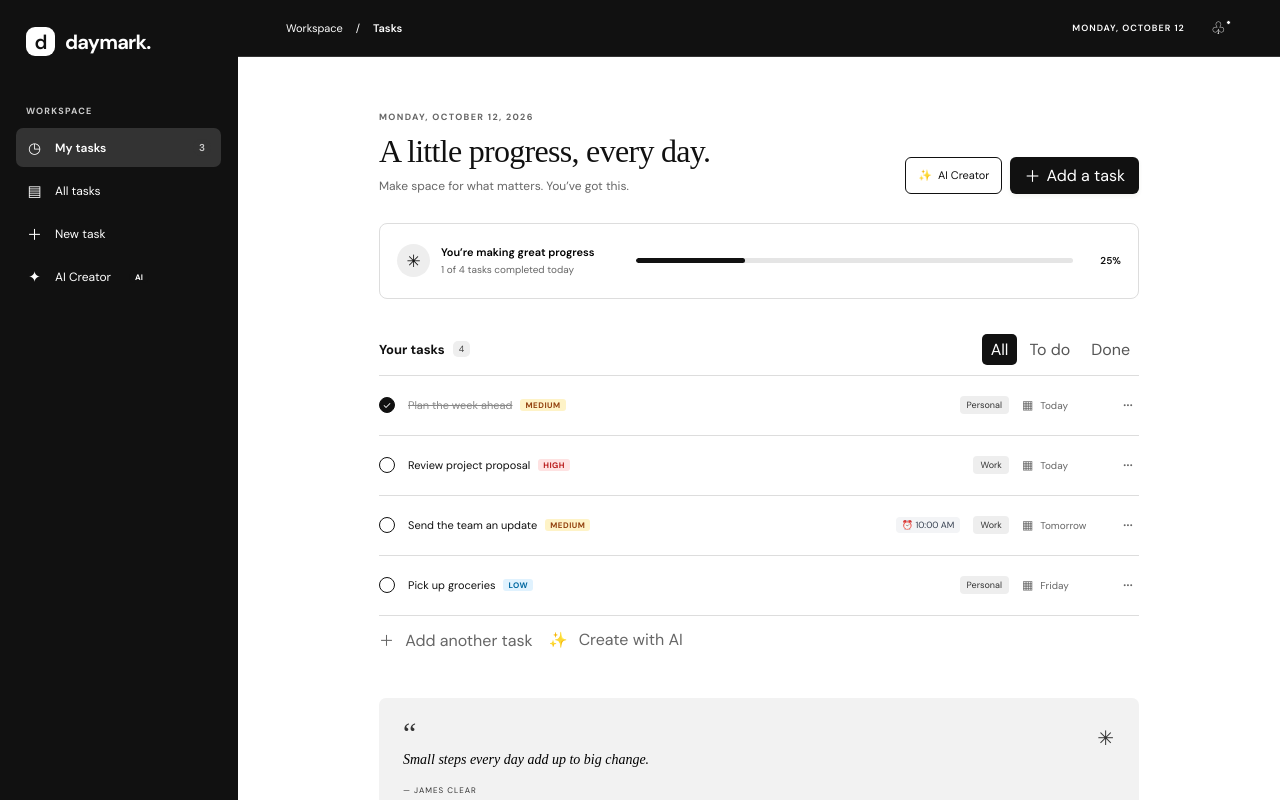
Test case: task app › updates completion status and saves it to local storage
Click the button named "Complete Review project proposal" at (387, 465), box [379,457,395,473]
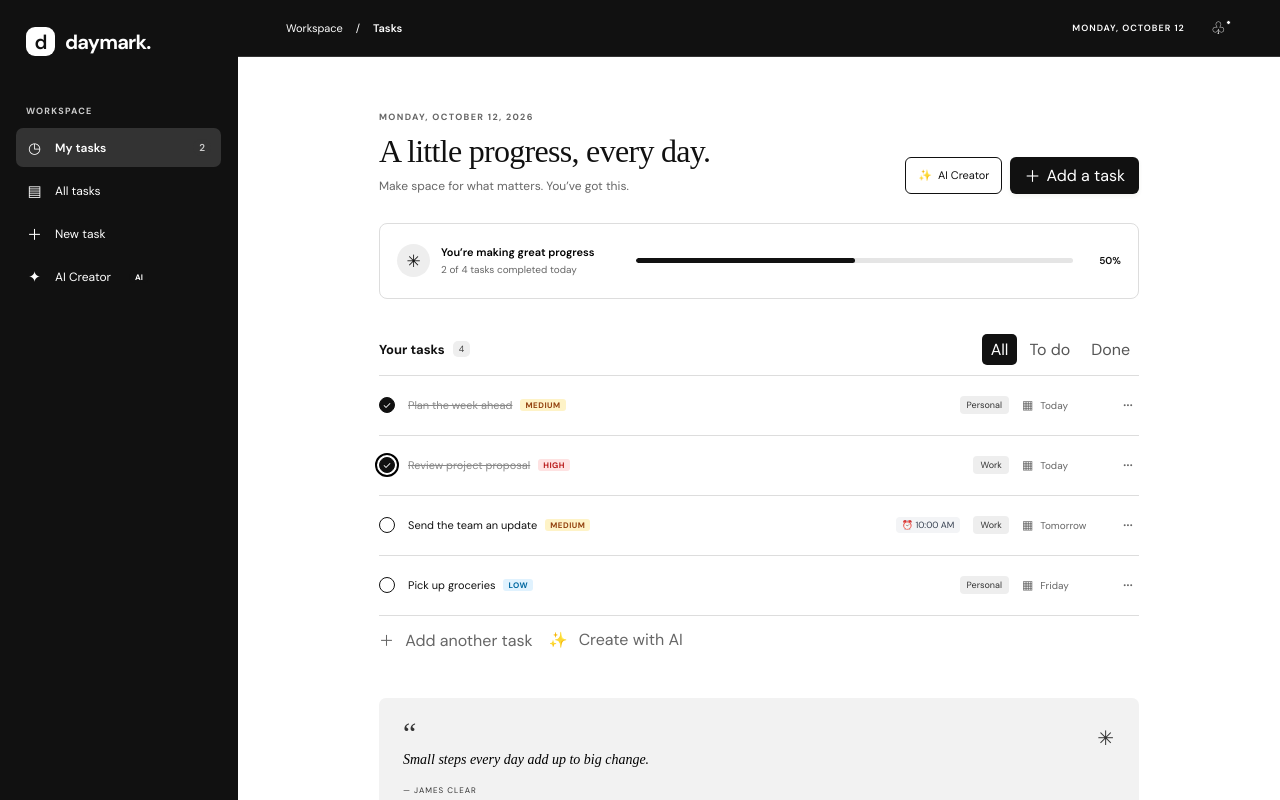
Check: the button named "Mark Review project proposal incomplete" is shown, box [379,457,395,473]
Check: the text "2 of 4 tasks completed today" is shown, box [441,263,595,276]
